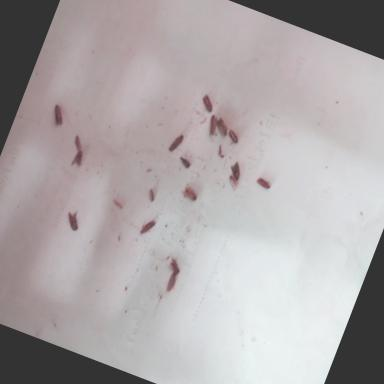pbw: (48, 104, 68, 127), (138, 216, 158, 239), (63, 208, 83, 230), (168, 130, 186, 154), (212, 116, 232, 136), (70, 148, 86, 170), (204, 114, 220, 136), (227, 160, 244, 180), (198, 94, 216, 112), (180, 185, 200, 201), (72, 134, 86, 152), (178, 152, 192, 168), (254, 176, 272, 188), (226, 129, 240, 144), (227, 175, 240, 189), (146, 187, 157, 201)
